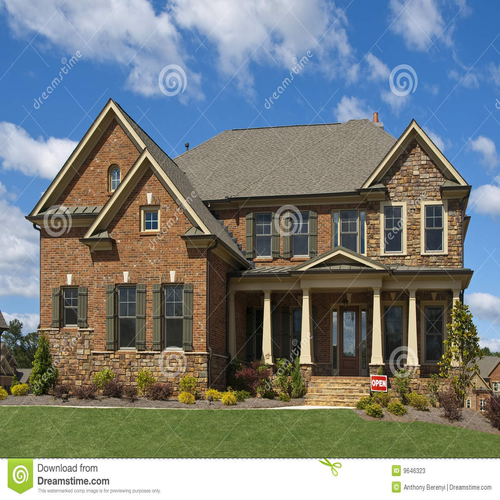Building House: (24, 82, 481, 396)
